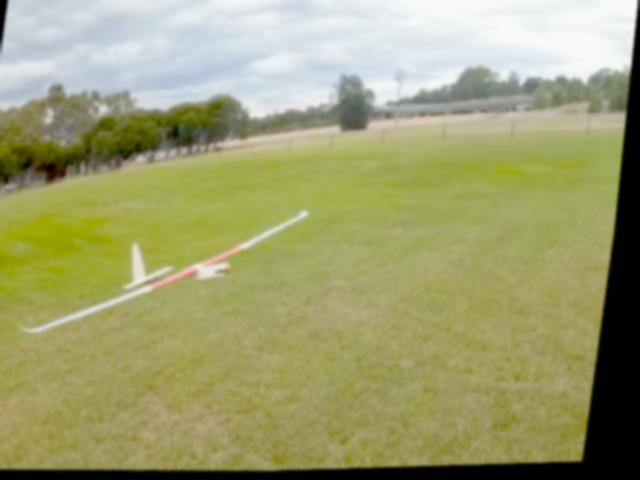uav: (19, 190, 320, 359)
